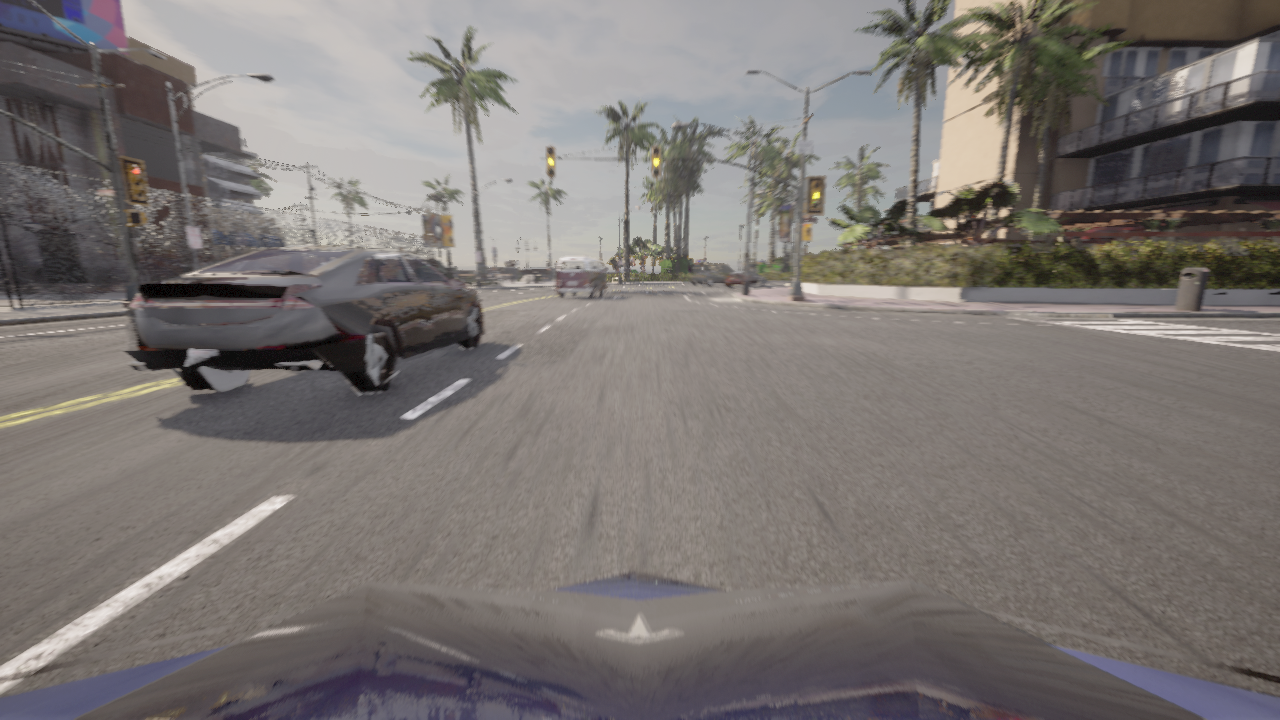cyclist: (0, 569, 1279, 719), (122, 246, 484, 393), (555, 256, 607, 298), (725, 270, 765, 286), (690, 270, 725, 286), (181, 260, 221, 273)
